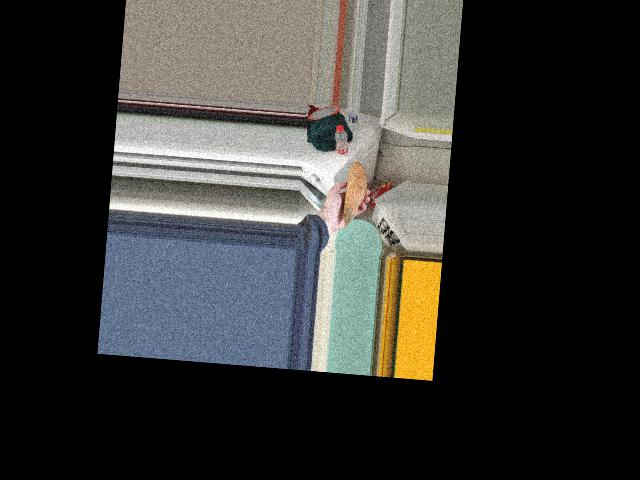sweet_potato: (342, 167, 368, 224)
